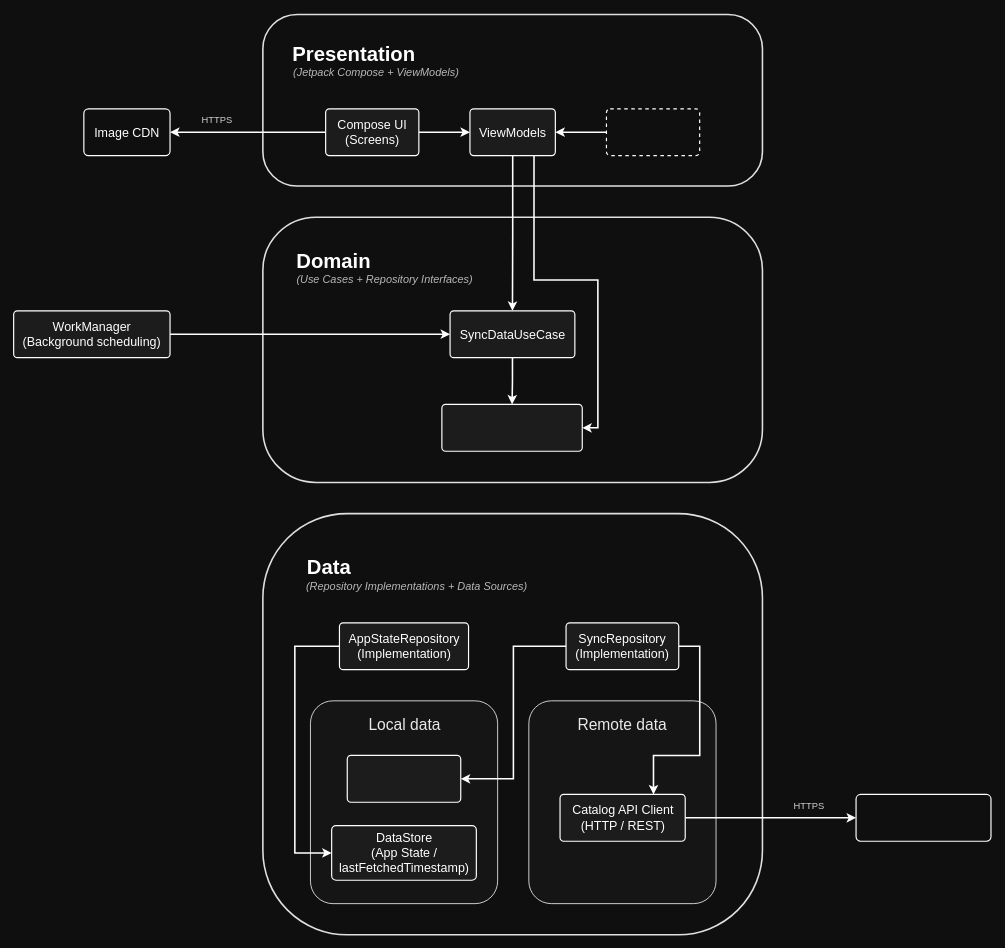
Image size: 1005x948. Some labels were removed from this diagram. The shapes that lost their labels are listed below. From the top down, each one's centre as x and y in pixels, then its label:
(653,132): Sync Triggers • Splash screen • Pull-to-refresh
(512,427): Repository Interfaces
(403,778): Room (Local database)
(923,817): Catalog REST API (Series / Minifigures)
